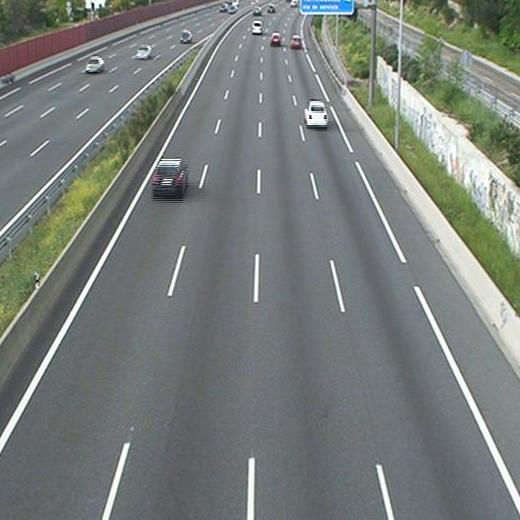car: (153, 160, 186, 193), (304, 100, 328, 126), (250, 21, 262, 34), (290, 36, 301, 48), (271, 32, 282, 44), (252, 7, 262, 16), (266, 5, 276, 12)
